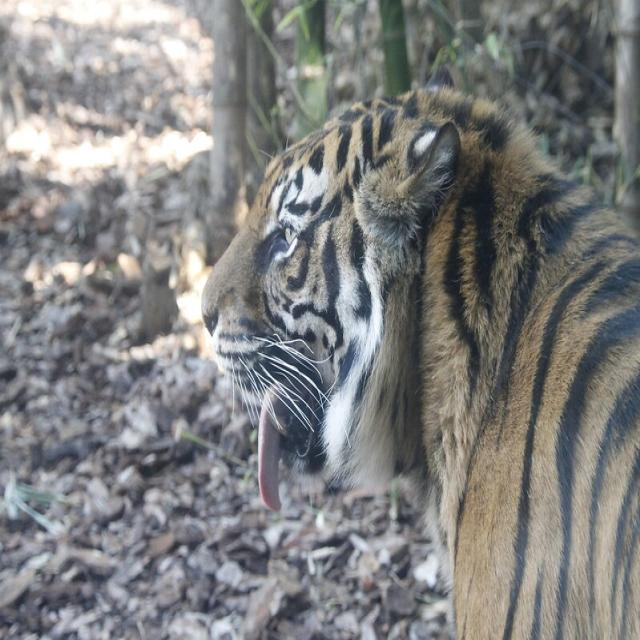Tiger: (197, 74, 637, 636)
